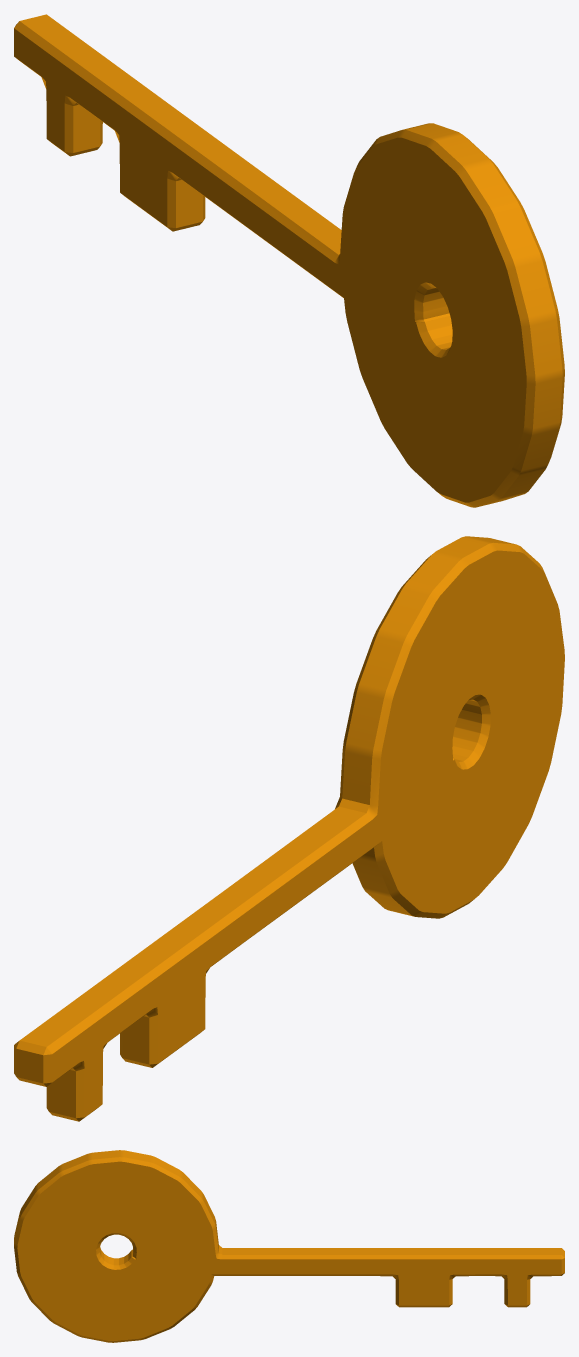
File: Key_Orange.fbx
The picture shows the model from 3 angles, top to bottom: view 1: azimuth 30°, elevation 25°; view 2: azimuth 150°, elevation 25°; view 3: azimuth 270°, elevation 25°; orthographic projection. The views are drawn at different scales.
Visible parts, largest first — view 1: Key_Orange; view 2: Key_Orange; view 3: Key_Orange.
Part boxes in pixels (bbox=[...]): Key_Orange: bbox=[14, 14, 564, 507]; Key_Orange: bbox=[14, 536, 564, 1121]; Key_Orange: bbox=[14, 1150, 564, 1342].
Bounding box in the file's own units: 0.6826 × 5.98 × 16.07.
